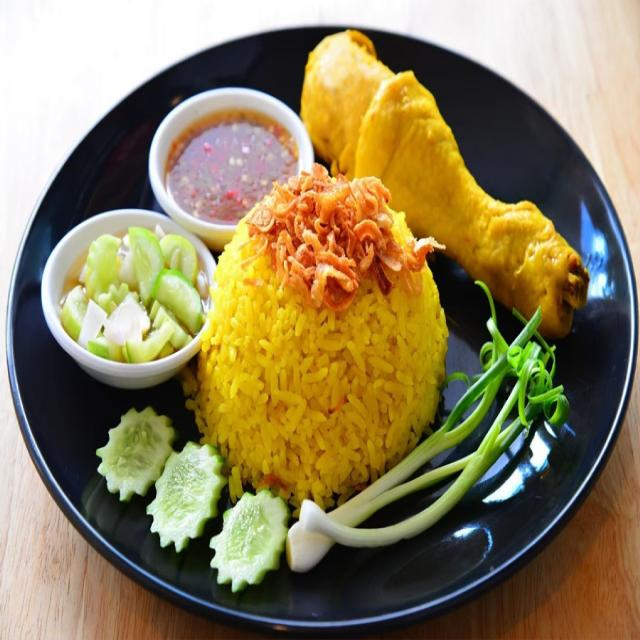Carbohydrate: (196, 175, 444, 504)
Kaow-Mokkai: (11, 23, 637, 637)
Protein: (299, 12, 585, 326)
Vegetable: (95, 312, 568, 594)
